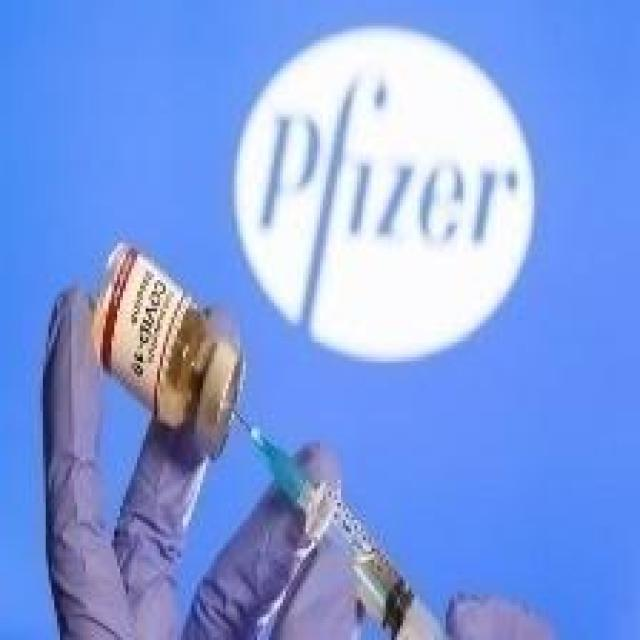Medicine: (86, 205, 453, 640)
